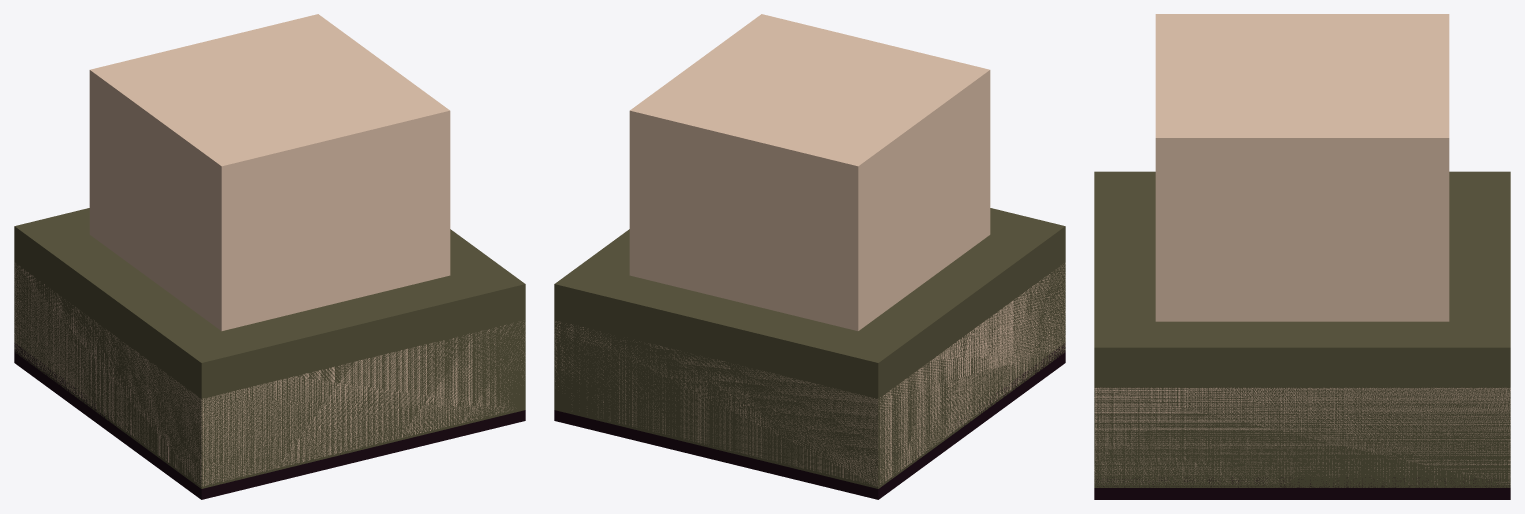
The model's file is pusher.gltf.
3 views of the same model, side by side, from view 1: azimuth 30°, elevation 25°; view 2: azimuth 150°, elevation 25°; view 3: azimuth 270°, elevation 25° (orthographic). The views are drawn at different scales.
Visible parts, largest first — view 1: blocker, pusher, square; view 2: blocker, pusher, square; view 3: blocker, pusher, square.
Part boxes in pixels (x1,y1,x2,y2): blocker: (14, 14, 525, 486); pusher: (14, 208, 525, 488); square: (14, 343, 525, 499); blocker: (554, 14, 1065, 486); pusher: (554, 208, 1065, 488); square: (554, 343, 1065, 499); blocker: (1094, 14, 1510, 484); pusher: (1094, 171, 1510, 487); square: (1094, 477, 1510, 499).
Bounding box in the file's own units: 2 × 1.78 × 2.
